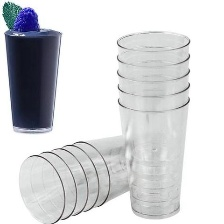glass: (96, 20, 197, 220), (9, 131, 155, 224), (0, 18, 69, 139)
